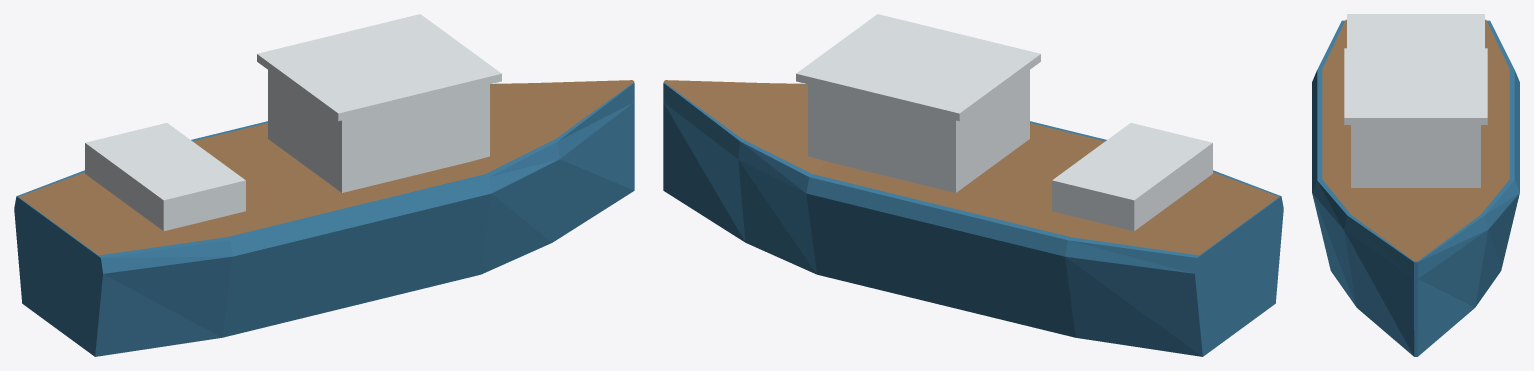
File: motorboat_lod2.glb
The picture shows the model from 3 angles, left to right: view 1: azimuth 30°, elevation 25°; view 2: azimuth 150°, elevation 25°; view 3: azimuth 270°, elevation 25°; orthographic projection. The views are drawn at different scales.
Parts seen in each view (by area): view 1: body; view 2: body; view 3: body.
Boxes of the visible parts, x1=… form: body: x1=14, y1=14, x2=634, y2=356; body: x1=663, y1=14, x2=1283, y2=356; body: x1=1312, y1=14, x2=1519, y2=356.
Bounding box in the file's own units: 7 × 2.19 × 2.5.
